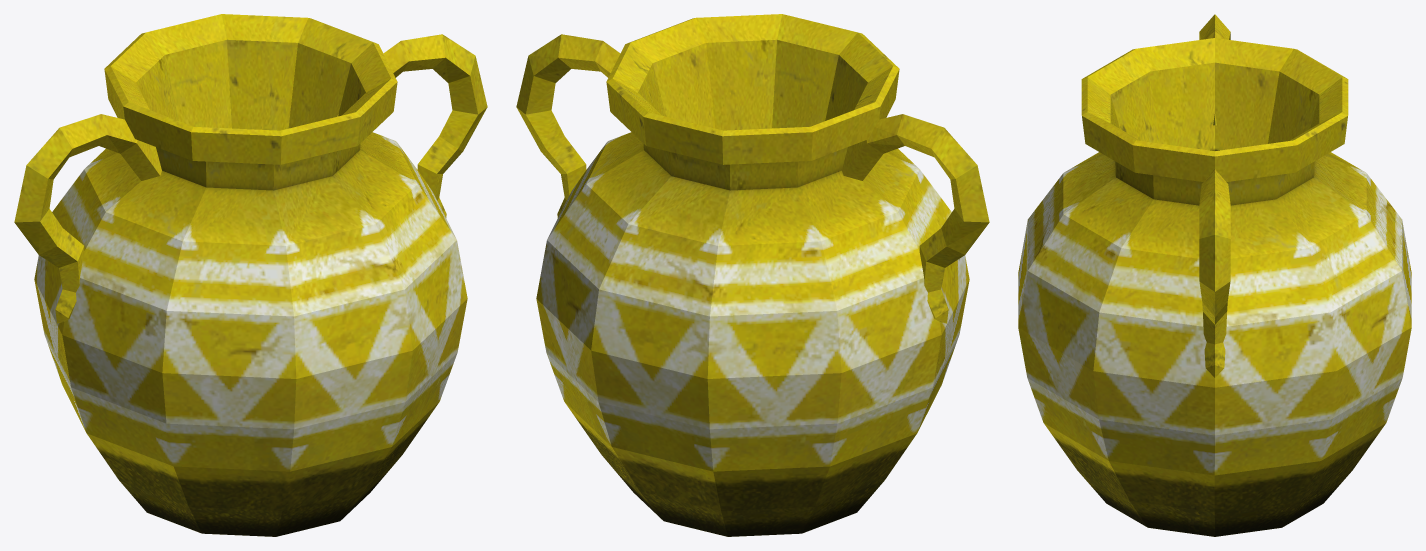
Rendered from Yellow_Pot_261.obj.
3 renders of one model, left to right at view 1: azimuth 30°, elevation 25°; view 2: azimuth 150°, elevation 25°; view 3: azimuth 270°, elevation 25°, orthographic. The views are drawn at different scales.
Parts seen in each view (by area): view 1: Yellow_Pot_261_261; view 2: Yellow_Pot_261_261; view 3: Yellow_Pot_261_261.
Boxes of the visible parts, x1,y1,x2,y2 form: Yellow_Pot_261_261: [14, 14, 487, 536]; Yellow_Pot_261_261: [516, 14, 989, 536]; Yellow_Pot_261_261: [1018, 14, 1411, 536].
Bounding box in the file's own units: 0.4015 × 0.3364 × 0.3044.
1 material, 1 textured.
